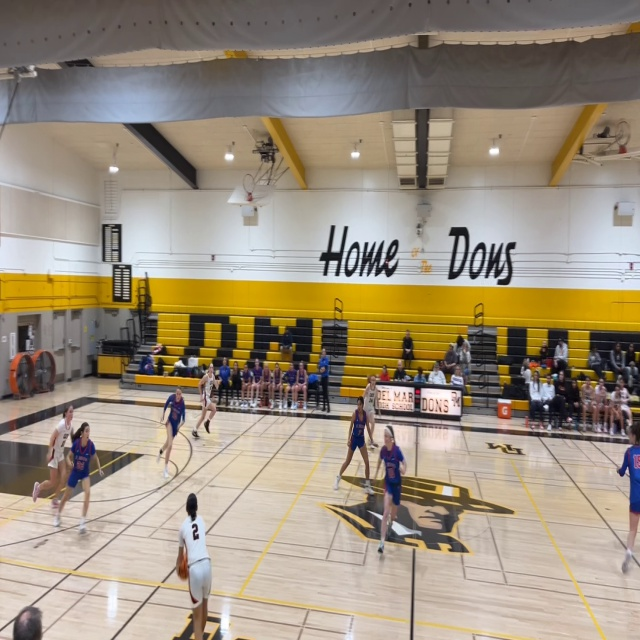Basketball: (176, 548, 188, 579)
